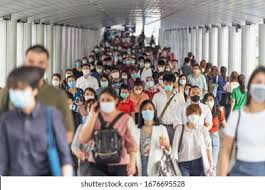with_mask: (8, 76, 34, 106), (251, 73, 265, 104), (140, 101, 155, 122), (101, 93, 116, 112), (187, 106, 200, 125), (204, 94, 216, 110), (164, 77, 175, 92), (190, 88, 201, 103), (134, 82, 142, 96), (52, 74, 60, 88), (99, 77, 109, 88), (85, 90, 96, 99), (146, 78, 155, 88), (121, 86, 127, 99), (68, 77, 75, 87), (158, 62, 165, 72), (83, 65, 89, 76), (180, 75, 186, 84), (96, 65, 102, 73)
